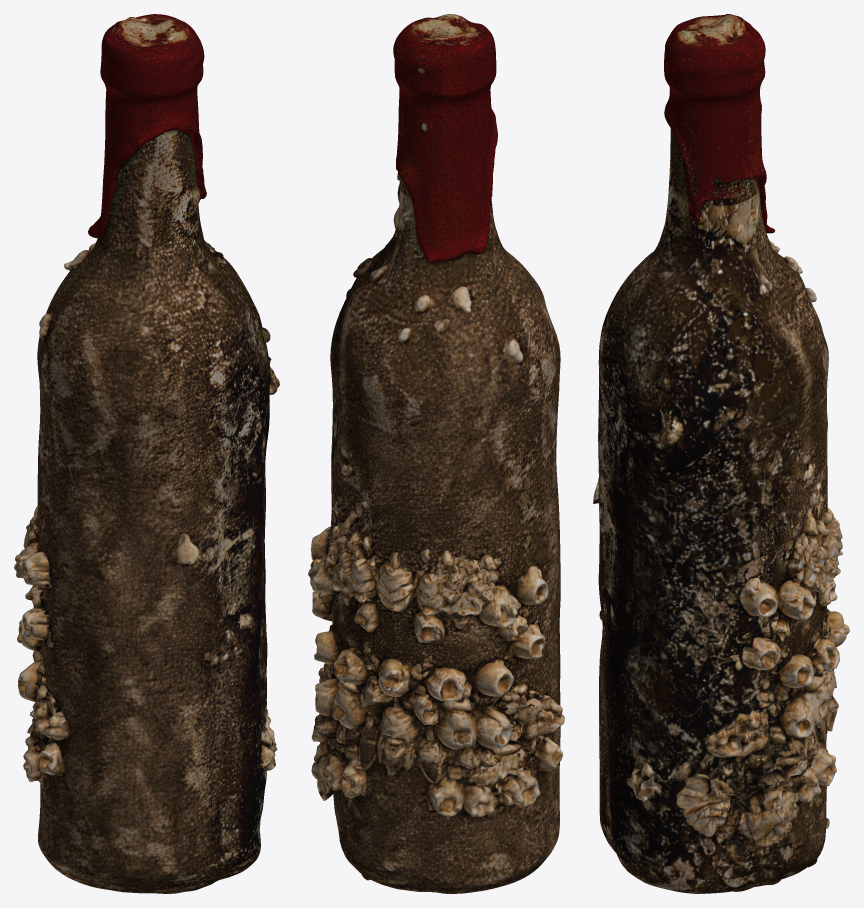
The model's file is reserve.glb.
3 views of the same model, side by side, from view 1: azimuth 30°, elevation 25°; view 2: azimuth 150°, elevation 25°; view 3: azimuth 270°, elevation 25° (orthographic).
Parts seen in each view (by area): view 1: tripo_node_da13af35-4eb5-417b-b40f-4c34177a597d; view 2: tripo_node_da13af35-4eb5-417b-b40f-4c34177a597d; view 3: tripo_node_da13af35-4eb5-417b-b40f-4c34177a597d.
Boxes of the visible parts, x1,y1,x2,y2 form: tripo_node_da13af35-4eb5-417b-b40f-4c34177a597d: (14, 14, 279, 893); tripo_node_da13af35-4eb5-417b-b40f-4c34177a597d: (308, 14, 564, 893); tripo_node_da13af35-4eb5-417b-b40f-4c34177a597d: (593, 14, 849, 893).
Bounding box in the file's own units: 0.2829 × 0.9788 × 0.2756.
Materials: 1 (1 with a texture image).
